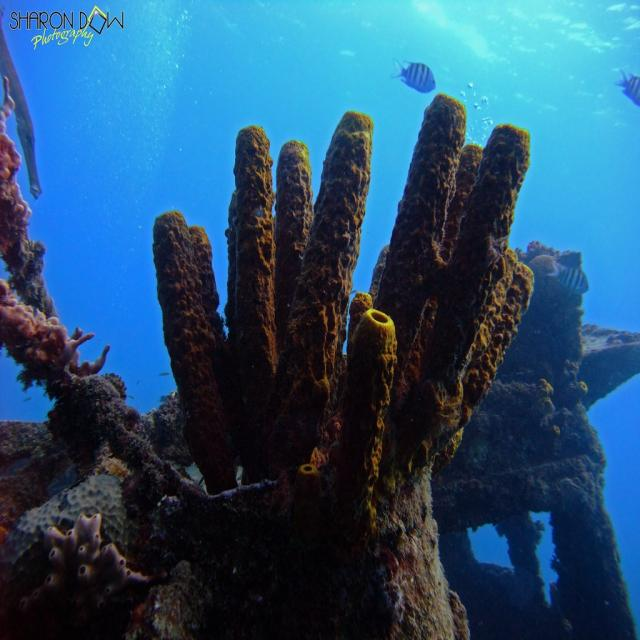Healthy: (154, 95, 534, 559), (1, 79, 195, 511), (1, 476, 163, 640)
